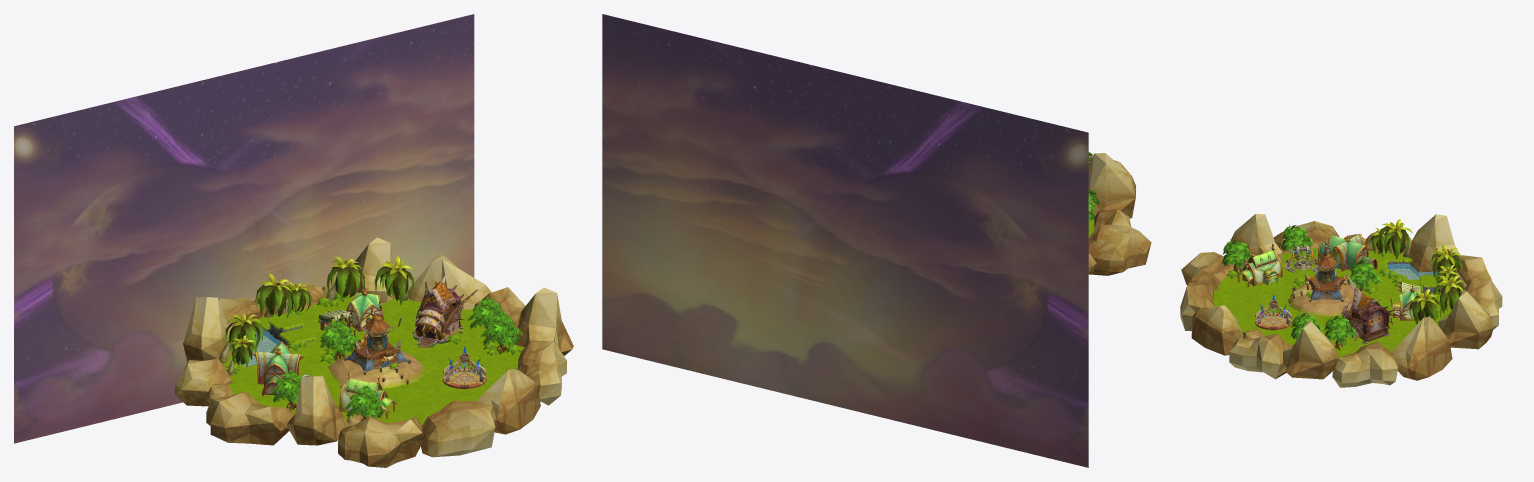
3 views of the same model, side by side, from view 1: azimuth 30°, elevation 25°; view 2: azimuth 150°, elevation 25°; view 3: azimuth 270°, elevation 25° (orthographic). The views are drawn at different scales.
Visible parts, largest first — view 1: Plane168, 对象1950, 对象1953, ua042, Box001, Box002, ua007, 对象1990, 对象1991, UA008, Plane011, Plane007 (+5 smaller); view 2: Plane168, 对象1950; view 3: 对象1950, 对象1953, ua042, Box001, ua007, Box002, ua009, 对象1990, Plane007, 对象1991, Plane011, ub097 (+7 smaller).
Boxes of the visible parts, bbox=[...] form: Plane168: bbox=[14, 14, 474, 443]; 对象1950: bbox=[175, 237, 573, 467]; 对象1953: bbox=[219, 256, 415, 375]; ua042: bbox=[412, 274, 477, 348]; Box001: bbox=[343, 297, 411, 384]; Box002: bbox=[328, 351, 425, 388]; ua007: bbox=[252, 341, 303, 396]; 对象1990: bbox=[442, 346, 486, 389]; 对象1991: bbox=[326, 256, 365, 301]; UA008: bbox=[328, 287, 401, 336]; Plane011: bbox=[386, 382, 448, 409]; Plane007: bbox=[205, 341, 334, 383]; Plane168: bbox=[602, 14, 1088, 467]; 对象1950: bbox=[1088, 153, 1151, 281]; 对象1950: bbox=[1180, 213, 1502, 387]; 对象1953: bbox=[1370, 218, 1466, 324]; ua042: bbox=[1340, 275, 1406, 343]; Box001: bbox=[1288, 240, 1347, 303]; ua007: bbox=[1318, 233, 1377, 272]; Box002: bbox=[1289, 283, 1354, 316]; ua009: bbox=[1236, 243, 1282, 287]; 对象1990: bbox=[1255, 294, 1291, 330]; Plane007: bbox=[1364, 250, 1410, 292]; 对象1991: bbox=[1433, 275, 1464, 313]; Plane011: bbox=[1246, 292, 1285, 309]; ub097: bbox=[1285, 246, 1319, 272].
Size of the model in its own units: 234 by 154 by 178.
